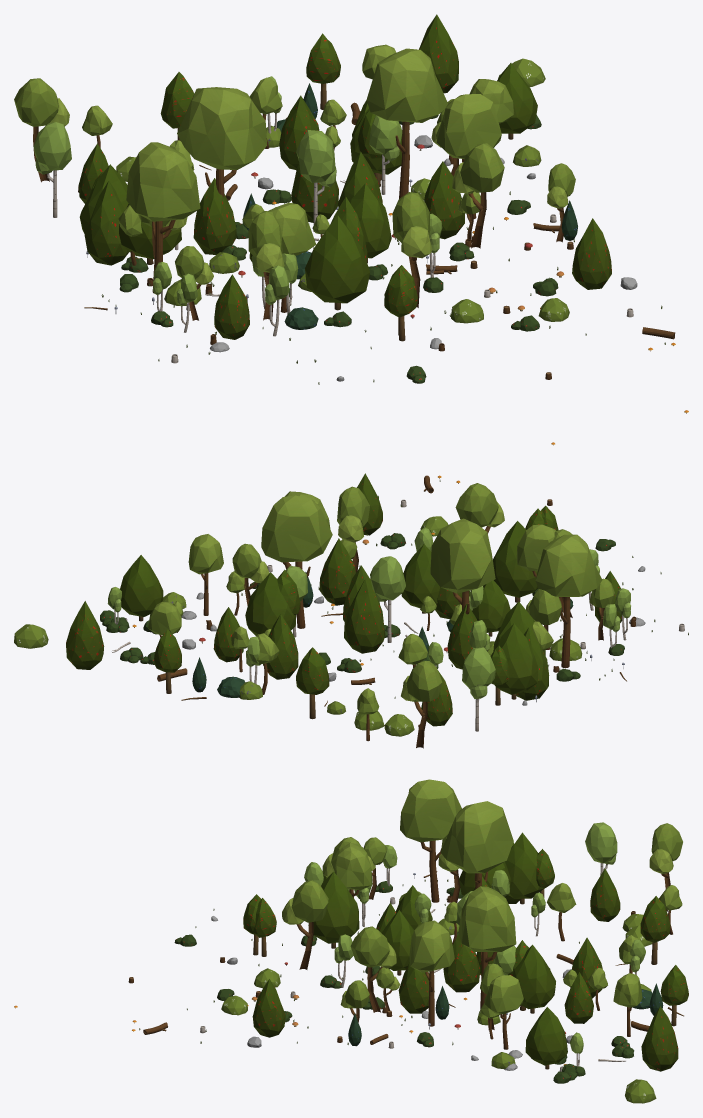
3 views of the same model, one above another, from view 1: azimuth 30°, elevation 25°; view 2: azimuth 150°, elevation 25°; view 3: azimuth 270°, elevation 25° (orthographic). The views are drawn at different scales.
Parts seen in each view (by area): view 1: Beechtree3 - copy.059, Beechtree3 - copy.005, Beechtree3 - copy.050, Hollytree2 - copy.012, Beechtree3 - copy.055, Beechtree2 - copy.078, Hollytree3 - copy.037, Beechtree2 - copy.011, Hollytree3 - copy.038, Beechtree2 - copy.041, BirchTree3 - copy.019, Hollytree3 - copy.017 (+31 smaller); view 2: Beechtree3 - copy.005, Beechtree3 - copy.059, Beechtree3 - copy.050, Hollytree3 - copy.053, Hollytree2 - copy.012, Hollytree2 - copy.010, Hollytree2 - copy.013, Hollytree2 - copy.014, Hollytree3 - copy.027, Beechtree2 - copy.041, Hollytree3 - copy.012, Beechtree2 - copy.078 (+31 smaller); view 3: Beechtree3 - copy.059, Beechtree3 - copy.050, Beechtree3 - copy.005, Beechtree3 - copy.055, Hollytree2 - copy.012, Beechtree2 - copy.011, Hollytree2 - copy.014, Hollytree2 - copy.013, Beechtree2 - copy.078, Hollytree2 - copy.010, Hollytree3 - copy.027, Beechtree3 - copy.016 (+23 smaller).
Part boxes in pixels (box(x1,y1,x2,y2)): Beechtree3 - copy.059: box(177, 87, 266, 197); Beechtree3 - copy.005: box(366, 48, 447, 198); Beechtree3 - copy.050: box(126, 142, 200, 293); Hollytree2 - copy.012: box(305, 215, 369, 310); Beechtree3 - copy.055: box(436, 94, 501, 218); Beechtree2 - copy.078: box(452, 143, 504, 248); Hollytree3 - copy.037: box(84, 180, 128, 265); Beechtree2 - copy.011: box(392, 192, 432, 307); Hollytree3 - copy.038: box(193, 178, 236, 254); Beechtree2 - copy.041: box(14, 78, 69, 182); BirchTree3 - copy.019: box(296, 130, 336, 231); Hollytree3 - copy.017: box(572, 218, 611, 289); Beechtree3 - copy.005: box(261, 495, 332, 628); Beechtree3 - copy.059: box(430, 518, 495, 614); Beechtree3 - copy.050: box(535, 534, 602, 668); Hollytree3 - copy.053: box(344, 579, 385, 653); Hollytree2 - copy.012: box(493, 521, 538, 602); Hollytree2 - copy.010: box(494, 623, 537, 699); Hollytree2 - copy.013: box(120, 555, 163, 621); Hollytree2 - copy.014: box(245, 572, 296, 636); Hollytree3 - copy.027: box(66, 601, 104, 669); Beechtree2 - copy.041: box(401, 661, 442, 748); Hollytree3 - copy.012: box(319, 538, 355, 605); Beechtree2 - copy.078: box(337, 486, 369, 572); Beechtree3 - copy.059: box(440, 801, 513, 889); Beechtree3 - copy.050: box(400, 779, 461, 902); Beechtree3 - copy.005: box(458, 886, 516, 1010); Beechtree3 - copy.055: box(409, 920, 454, 1026); Hollytree2 - copy.012: box(308, 871, 359, 948); Beechtree2 - copy.011: box(282, 880, 328, 969); Hollytree2 - copy.014: box(512, 944, 555, 1013); Hollytree2 - copy.013: box(525, 1007, 567, 1069); Beechtree2 - copy.078: box(350, 926, 396, 1012); Hollytree2 - copy.010: box(505, 832, 544, 904); Hollytree3 - copy.027: box(641, 1006, 678, 1071); Beechtree3 - copy.016: box(334, 843, 372, 897).
Size of the model in its own units: 74.45 by 20.14 by 91.76.
Materials: 34 (34 with a texture image).
